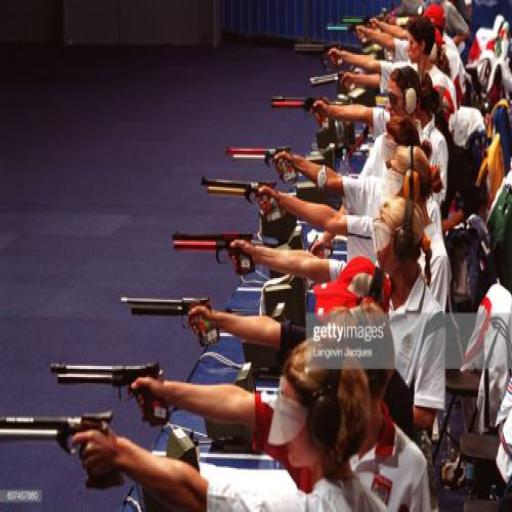shooting: (71, 314, 390, 511), (214, 216, 455, 436), (95, 325, 409, 488), (194, 282, 419, 446), (227, 157, 442, 308), (255, 134, 450, 283), (305, 91, 449, 208), (342, 38, 473, 130), (387, 14, 463, 146)
